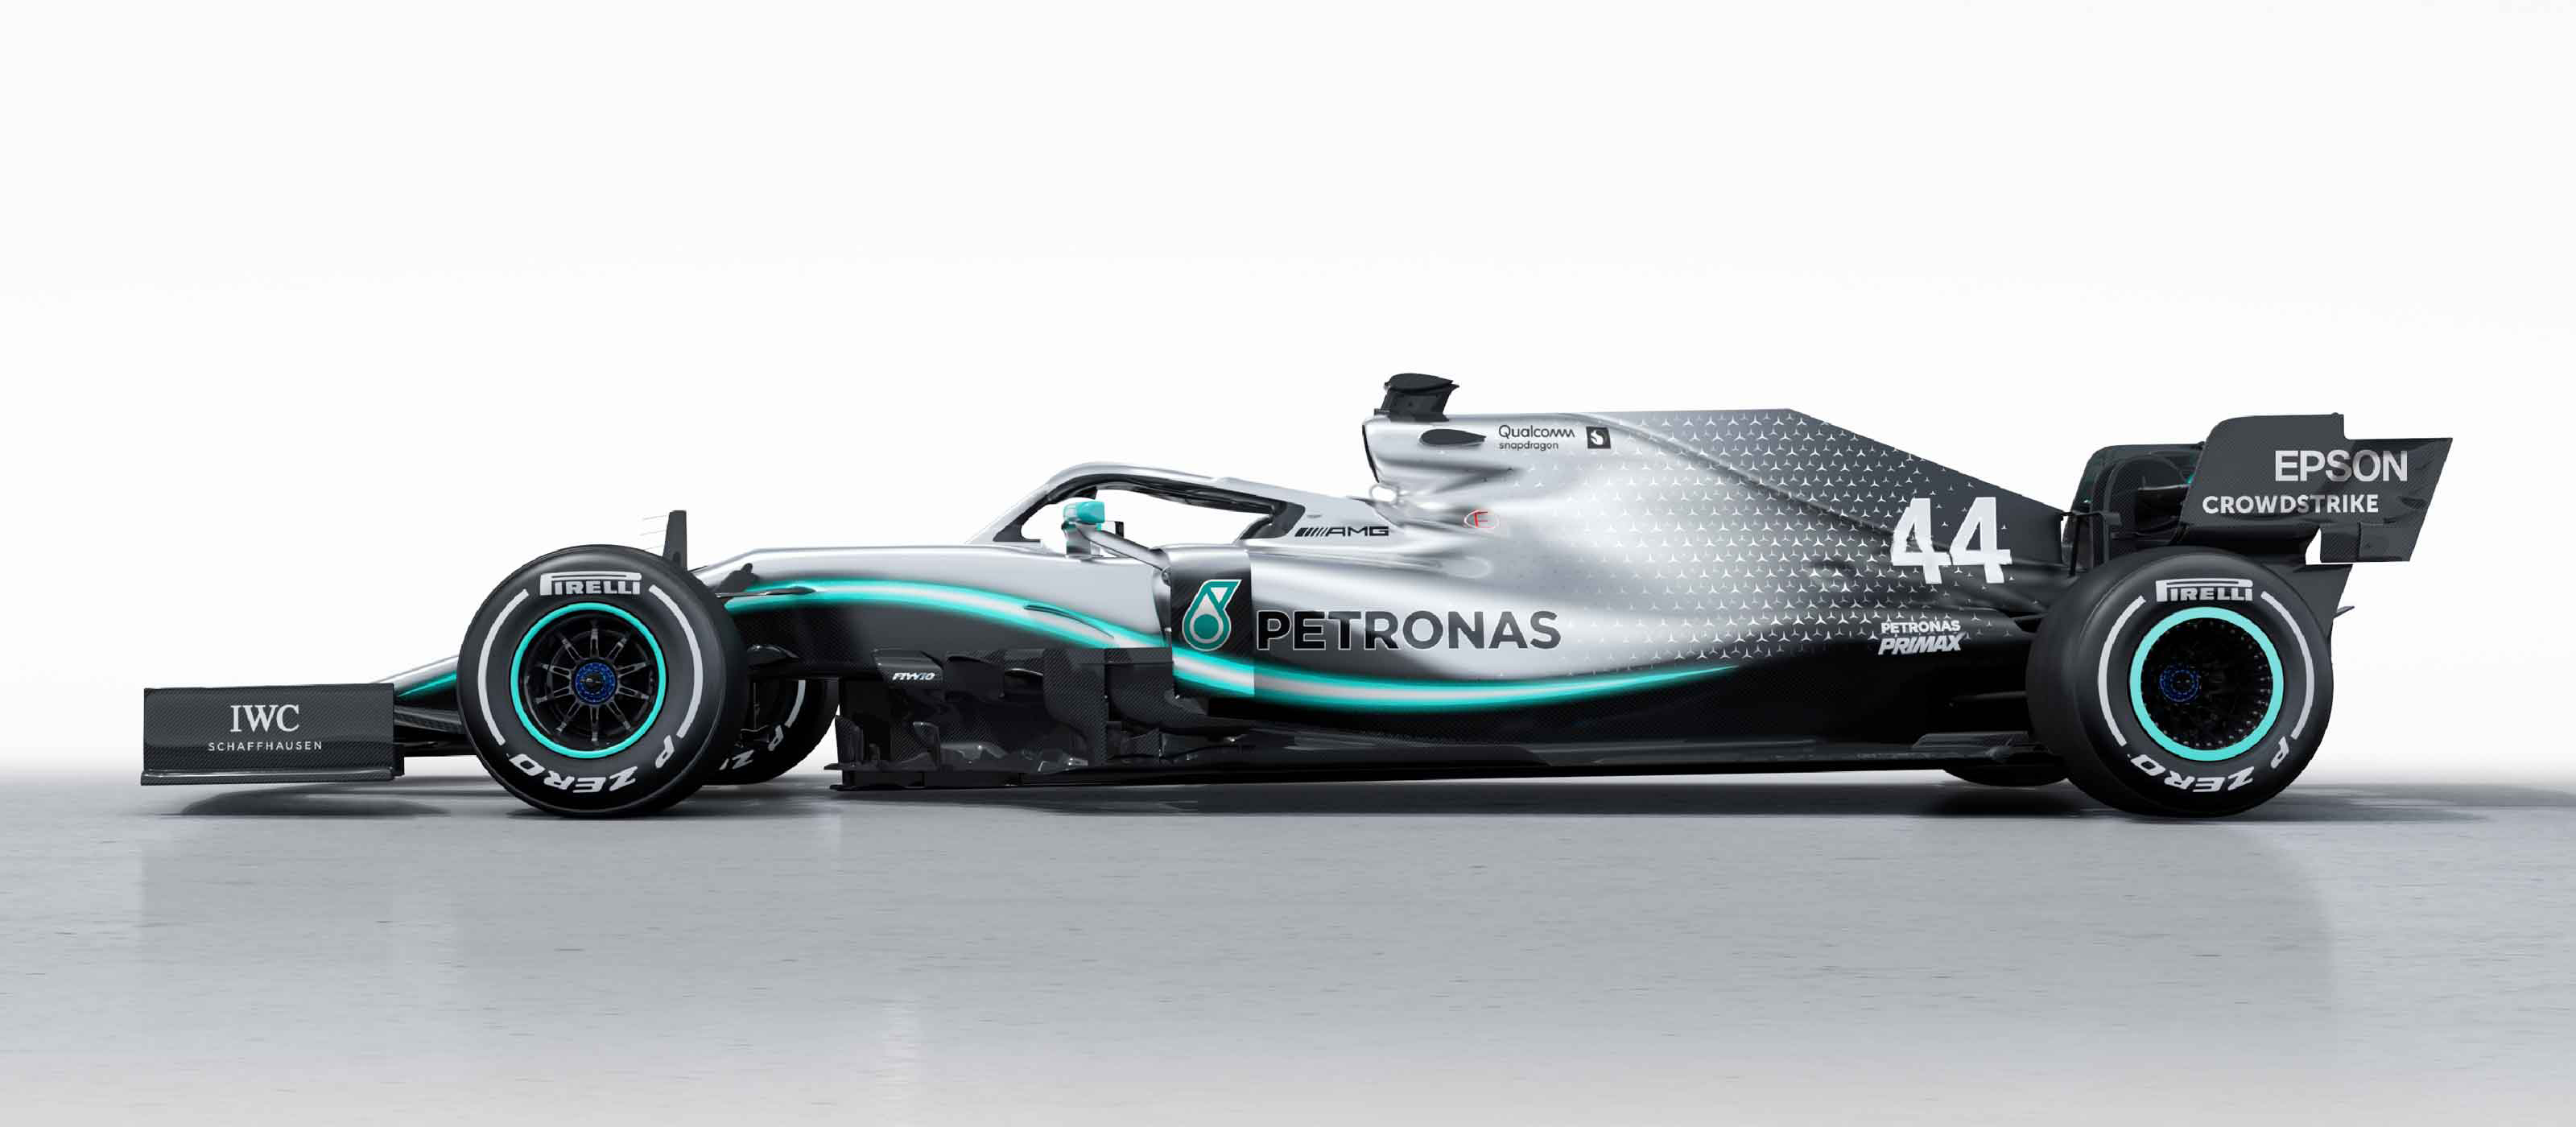F1 Car: (130, 361, 2463, 838)
